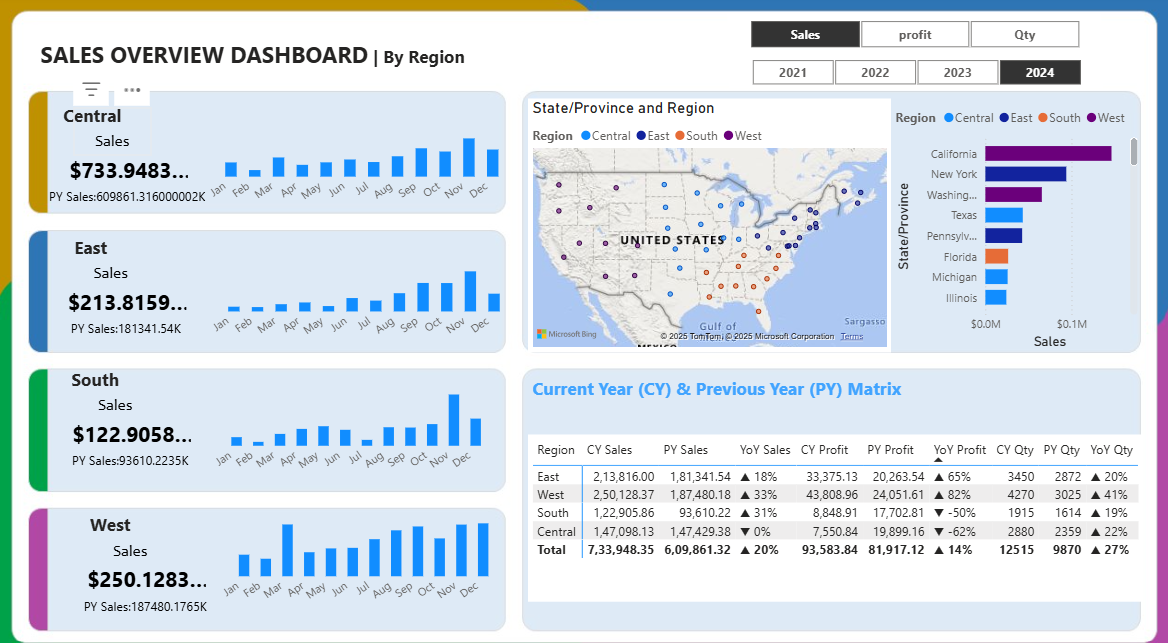

Layout of this report page (visuals, bound fields, positions):
{"tool":"powerbi","page":{"name":"Page 1","canvas":[1280,720],"ordinal":0},"visuals":[{"type":"slicer","fields":{"Values":["Select Matric.Select Matric"]},"box":[795.4,21.1,405,42.3],"z":0},{"type":"cardVisual","fields":{"Data":["Sales Data.Total Sales"]},"box":[60.2,148,167.5,66.7],"z":1000},{"type":"cardVisual","fields":{"Data":["Sales Data.Total Sales"]},"box":[58.9,290.9,167.5,66.7],"z":2000},{"type":"cardVisual","fields":{"Data":["Sales Data.Total Sales"]},"box":[62.7,434.5,167.5,66.7],"z":3000},{"type":"cardVisual","fields":{"Data":["Sales Data.Total Sales"]},"box":[79.7,591.4,167.5,66.7],"z":4000},{"type":"textbox","box":[42.3,112.2,128.5,35.8],"z":5000},{"type":"textbox","box":[41,255.1,128.5,35.8],"z":6000},{"type":"textbox","box":[44.8,398.7,128.5,35.8],"z":7000},{"type":"textbox","box":[61.8,555.6,128.5,35.8],"z":8000},{"type":"slicer","fields":{"Values":["Calender Table.Year"]},"box":[797,63.4,405,37.4],"z":9000},{"type":"cardVisual","fields":{"Data":["Sales Data.Dynamic Title"]},"box":[86.2,122,84.6,52],"z":10000},{"type":"cardVisual","fields":{"Data":["Sales Data.Dynamic Title"]},"box":[85,264.9,84.6,52],"z":11000},{"type":"cardVisual","fields":{"Data":["Sales Data.Dynamic Title"]},"box":[88.7,408.5,84.6,52],"z":12000},{"type":"cardVisual","fields":{"Data":["Sales Data.Dynamic Title"]},"box":[105.8,565.4,84.6,52],"z":13000},{"type":"cardVisual","fields":{"Data":["Sales Data.PY KPI Sales"]},"box":[39,183.8,211.5,60.2],"z":14000},{"type":"cardVisual","fields":{"Data":["Sales Data.PY KPI Sales"]},"box":[37.8,326.7,211.5,60.2],"z":15000},{"type":"cardVisual","fields":{"Data":["Sales Data.PY KPI Sales"]},"box":[41.6,470.3,211.5,60.2],"z":16000},{"type":"cardVisual","fields":{"Data":["Sales Data.PY KPI Sales"]},"box":[58.6,627.2,211.5,60.2],"z":17000},{"type":"columnChart","fields":{"Y":["Sales Data.Total Sales"],"Category":["Calender Table.Month"]},"box":[226.8,130.4,336.4,111.5],"z":18000},{"type":"columnChart","fields":{"Y":["Sales Data.Total Sales"],"Category":["Calender Table.Month"]},"box":[228.7,272.1,334.5,117.2],"z":19000},{"type":"columnChart","fields":{"Y":["Sales Data.Total Sales"],"Category":["Calender Table.Month"]},"box":[233.2,416.2,309.9,119.1],"z":20000},{"type":"columnChart","fields":{"Y":["Sales Data.Total Sales"],"Category":["Calender Table.Month"]},"box":[240,557.5,309.9,119.1],"z":21000},{"type":"barChart","fields":{"Y":["Sales Data.Total Sales"],"Category":["Sales Data.State/Province"],"Series":["Sales Data.Region"]},"box":[973.2,111.5,272.1,275.9],"z":22000},{"type":"pivotTable","fields":{"Rows":["Sales Data.Region"],"Values":["Sales Data.CY Sales","Sales Data.PY Sales","Sales Data.YoY Sales","Sales Data.CY Profit","Sales Data.PY Profit","Sales Data.YoY Profit","Sales Data.CY Qty","Sales Data.PY Qty","Sales Data.YoY Qty"]},"box":[578.3,476.2,667.1,181.4],"z":23000},{"type":"textbox","box":[579,408.3,610,60.2],"z":24000},{"type":"textbox","box":[45.5,42.3,497.7,58.6],"z":25000},{"type":"map","fields":{"Category":["Sales Data.State/Province"],"Series":["Sales Data.Region"]},"box":[579,112.2,393.6,274.9],"z":26000}]}

Visuals, with their boxes in screenshot pixels (x1, y1, x2, y2), scaled from the page's 1280x720 canvas onto the 1168x643 screenshot:
slicer - Select Matric.Select Matric: BBox(726, 19, 1095, 57)
cardVisual - Sales Data.Total Sales: BBox(55, 132, 208, 192)
cardVisual - Sales Data.Total Sales: BBox(54, 260, 207, 319)
cardVisual - Sales Data.Total Sales: BBox(57, 388, 210, 448)
cardVisual - Sales Data.Total Sales: BBox(73, 528, 226, 588)
textbox: BBox(39, 100, 156, 132)
textbox: BBox(37, 228, 155, 260)
textbox: BBox(41, 356, 158, 388)
textbox: BBox(56, 496, 174, 528)
slicer - Calender Table.Year: BBox(727, 57, 1097, 90)
cardVisual - Sales Data.Dynamic Title: BBox(79, 109, 156, 155)
cardVisual - Sales Data.Dynamic Title: BBox(78, 237, 155, 283)
cardVisual - Sales Data.Dynamic Title: BBox(81, 365, 158, 411)
cardVisual - Sales Data.Dynamic Title: BBox(97, 505, 174, 551)
cardVisual - Sales Data.PY KPI Sales: BBox(36, 164, 229, 218)
cardVisual - Sales Data.PY KPI Sales: BBox(34, 292, 227, 346)
cardVisual - Sales Data.PY KPI Sales: BBox(38, 420, 231, 474)
cardVisual - Sales Data.PY KPI Sales: BBox(53, 560, 246, 614)
columnChart - Sales Data.Total Sales x Calender Table.Month: BBox(207, 116, 514, 216)
columnChart - Sales Data.Total Sales x Calender Table.Month: BBox(209, 243, 514, 348)
columnChart - Sales Data.Total Sales x Calender Table.Month: BBox(213, 372, 496, 478)
columnChart - Sales Data.Total Sales x Calender Table.Month: BBox(219, 498, 502, 604)
barChart - Sales Data.Total Sales x Sales Data.State/Province: BBox(888, 100, 1136, 346)
pivotTable - Sales Data.Region x Sales Data.CY Sales: BBox(528, 425, 1136, 587)
textbox: BBox(528, 365, 1085, 418)
textbox: BBox(42, 38, 496, 90)
map - Sales Data.State/Province x Sales Data.Region: BBox(528, 100, 887, 346)
